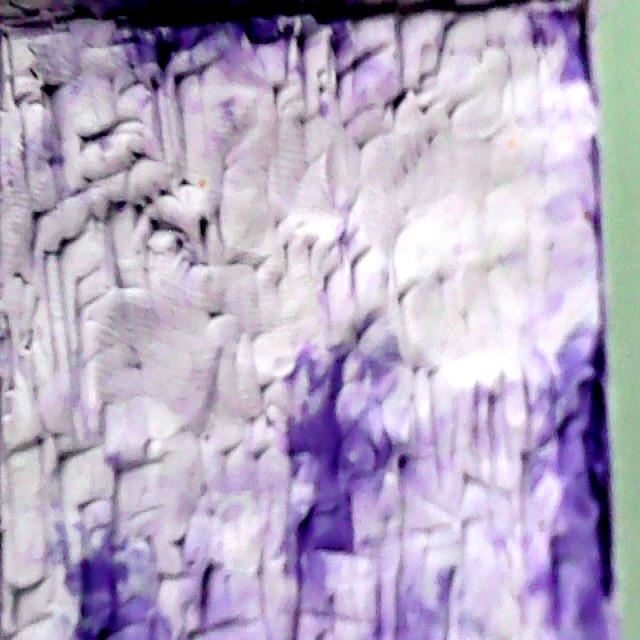block: (0, 31, 629, 639)
